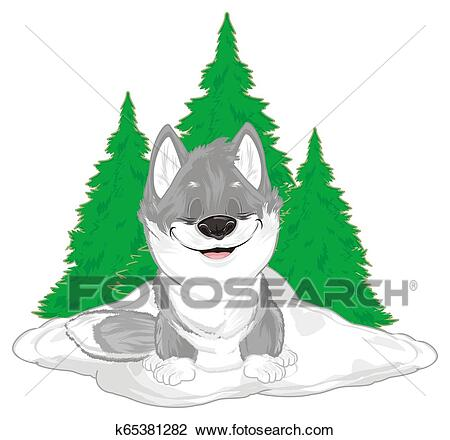Lobo: (120, 108, 311, 394)
